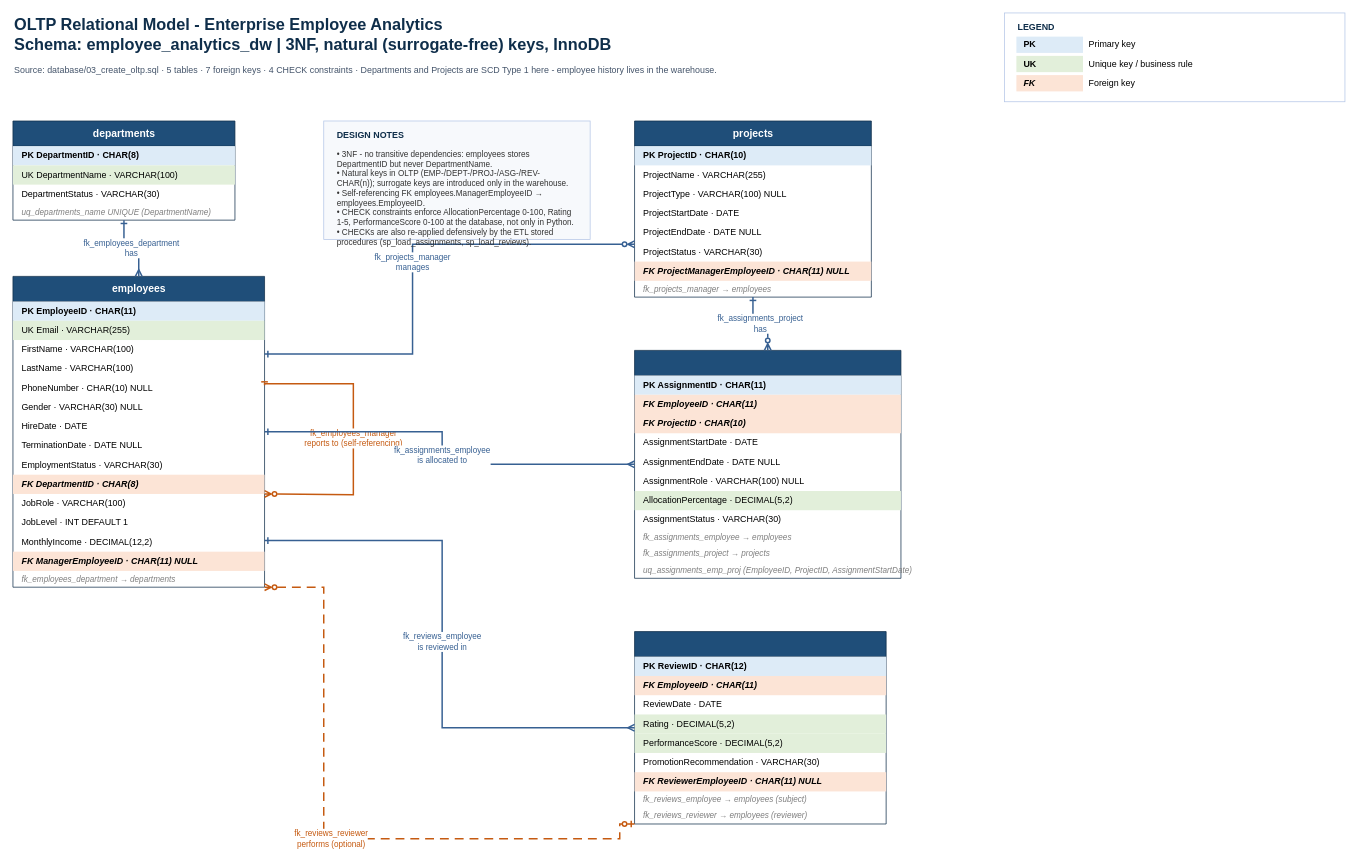
The diagram is 1358 pixels wide and 861 high, and some of its shapes have lost their labels. Each missing label, with the box of its shape:
employee_project_assignments: (634, 350, 901, 578)
performance_reviews: (634, 631, 886, 824)
